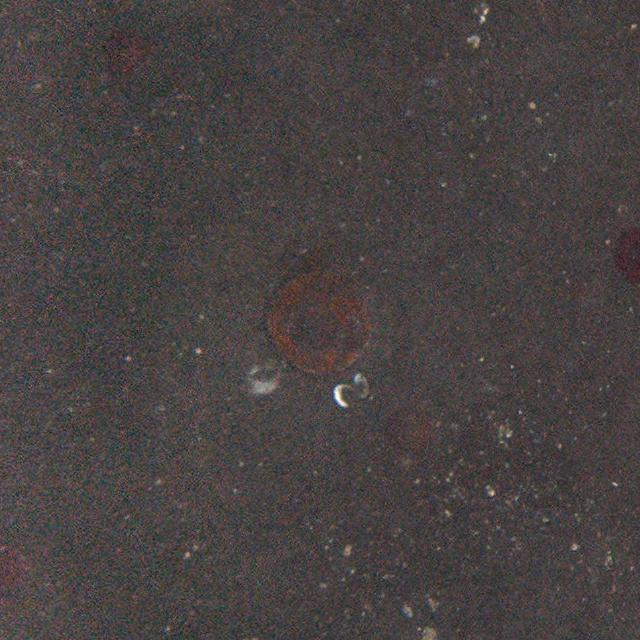scallop: (262, 259, 374, 383)
